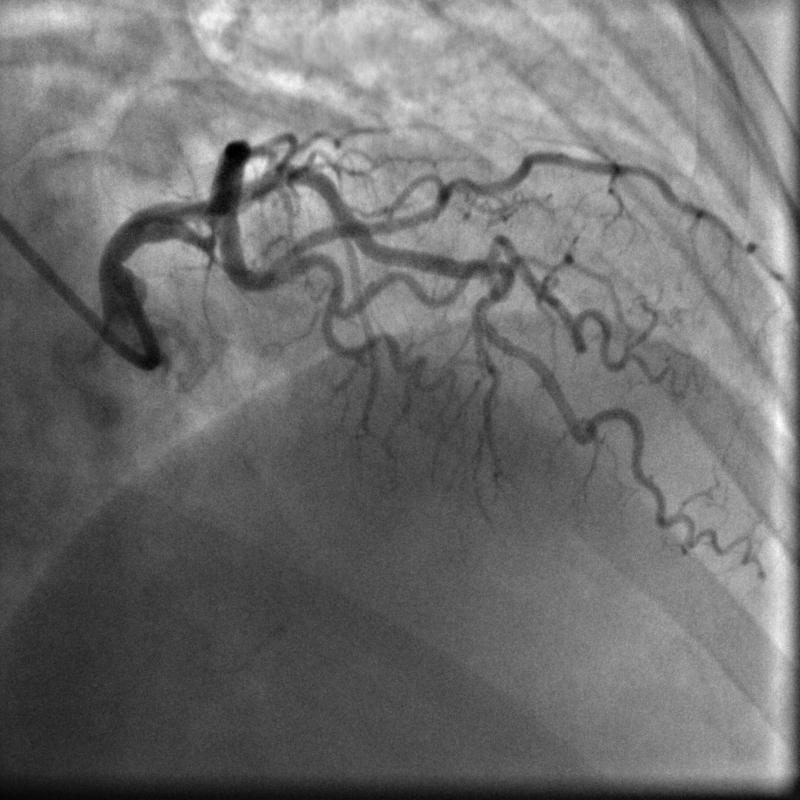Stenosis: (197, 209, 228, 251)
